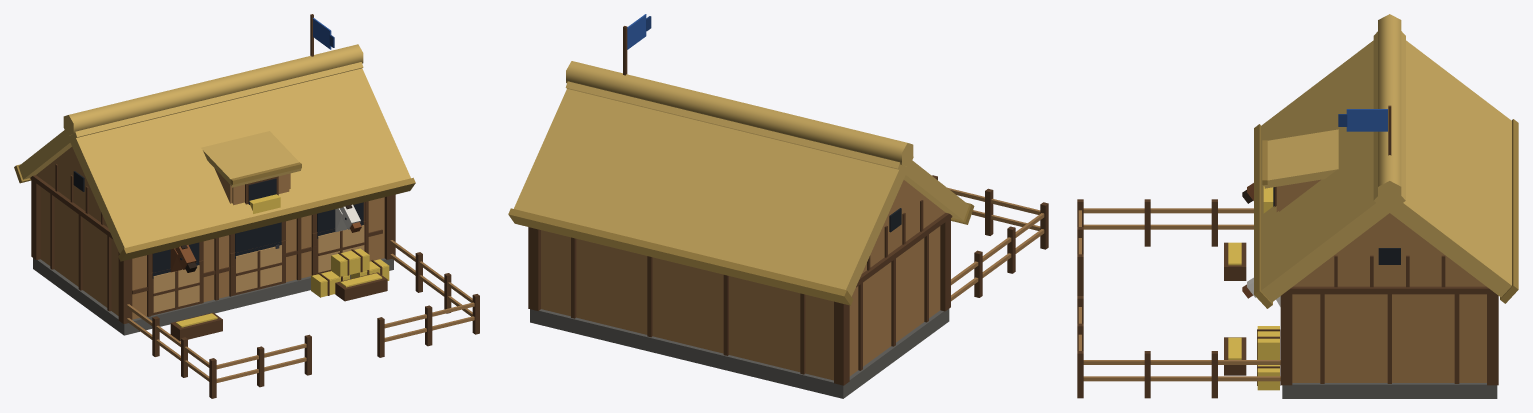
File: stable.glb
The picture shows the model from 3 angles, left to right: view 1: azimuth 30°, elevation 25°; view 2: azimuth 150°, elevation 25°; view 3: azimuth 270°, elevation 25°; orthographic projection. The views are drawn at different scales.
Parts seen in each view (by area): view 1: stable; view 2: stable; view 3: stable.
Part boxes in pixels (x1,y1,x2,y2): stable: (14,14,479,398); stable: (508,14,1048,398); stable: (1077,14,1518,398).
Bounding box in the file's own units: 8.8 × 6.69 × 9.85.
1 material, 1 textured.
